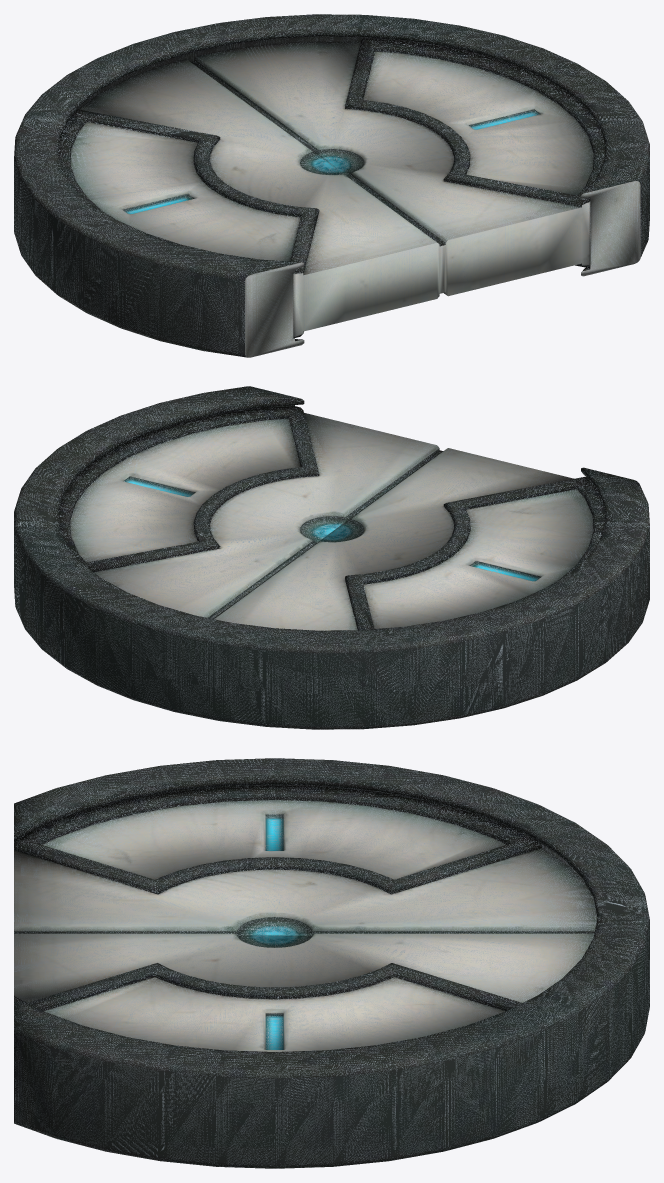
3 views of the same model, one above another, from view 1: azimuth 30°, elevation 25°; view 2: azimuth 150°, elevation 25°; view 3: azimuth 270°, elevation 25° (orthographic). The views are drawn at different scales.
Visible parts, largest first — view 1: door_01_lftdoor_reference_reference, door_01_frame_reference_reference, door_01_rtdoor_reference_reference; view 2: door_01_frame_reference_reference, door_01_lftdoor_reference_reference, door_01_rtdoor_reference_reference; view 3: door_01_frame_reference_reference, door_01_rtdoor_reference_reference, door_01_lftdoor_reference_reference.
Part boxes in pixels (<box>): door_01_lftdoor_reference_reference: <box>192,38,605,296</box>; door_01_frame_reference_reference: <box>14,14,649,357</box>; door_01_rtdoor_reference_reference: <box>58,59,442,338</box>; door_01_frame_reference_reference: <box>14,386,649,729</box>; door_01_lftdoor_reference_reference: <box>58,406,441,618</box>; door_01_rtdoor_reference_reference: <box>213,448,605,630</box>; door_01_frame_reference_reference: <box>14,758,649,1168</box>; door_01_rtdoor_reference_reference: <box>14,785,597,935</box>; door_01_lftdoor_reference_reference: <box>14,933,594,1051</box>.
Size of the model in its own units: 128 by 108 by 18.34.
Materials: 2 (1 with a texture image).
